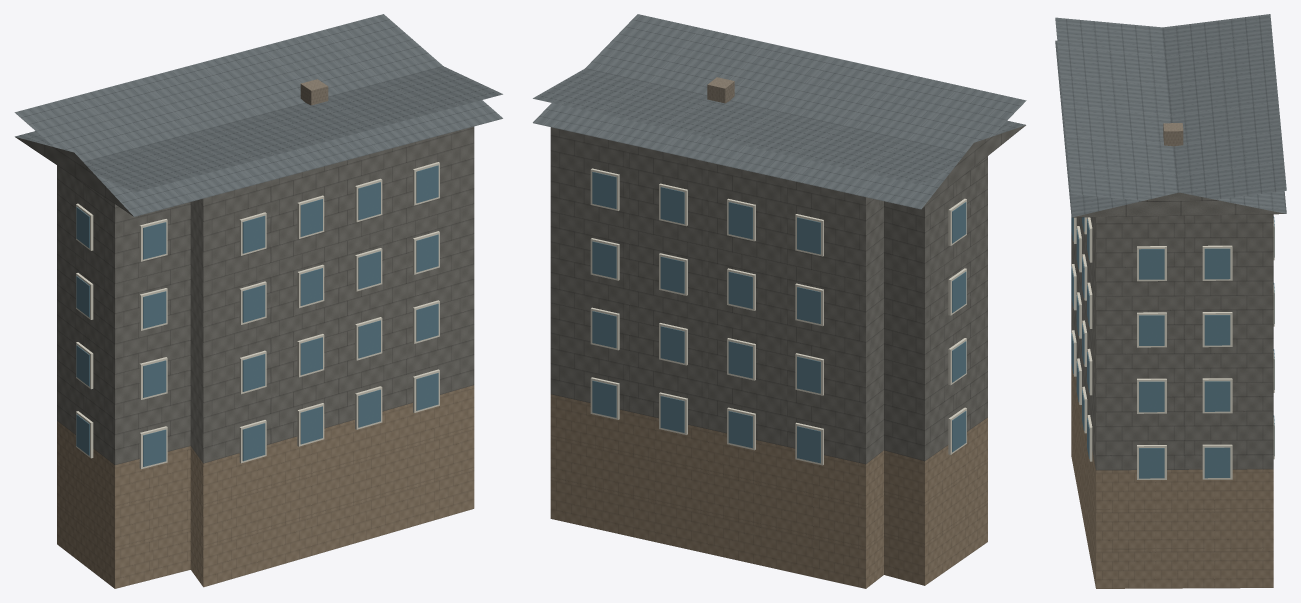
File: core_0051.gltf
3 renders of one model, left to right at view 1: azimuth 30°, elevation 25°; view 2: azimuth 150°, elevation 25°; view 3: azimuth 270°, elevation 25°, orthographic. The views are drawn at different scales.
Parts seen in each view (by area): view 1: core_0051; view 2: core_0051; view 3: core_0051.
Part boxes in pixels (box(x1,y1,x2,y2)): core_0051: box(14, 14, 502, 588); core_0051: box(533, 14, 1026, 588); core_0051: box(1055, 14, 1286, 588).
Size of the model in its own units: 16.63 by 17.45 by 9.03.
Materials: 6 (6 with a texture image).
